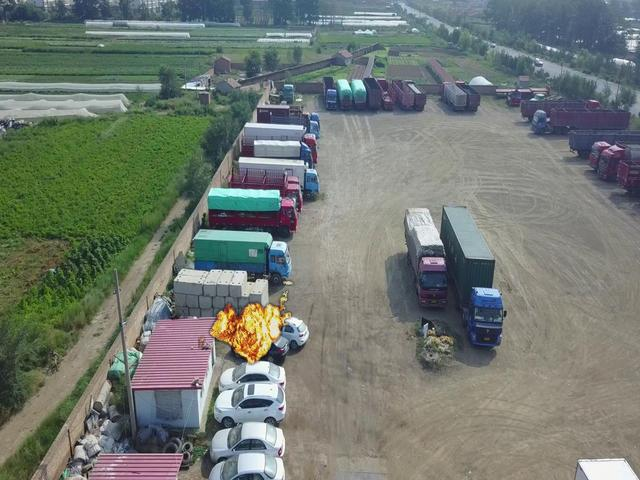fire: (199, 280, 294, 364)
